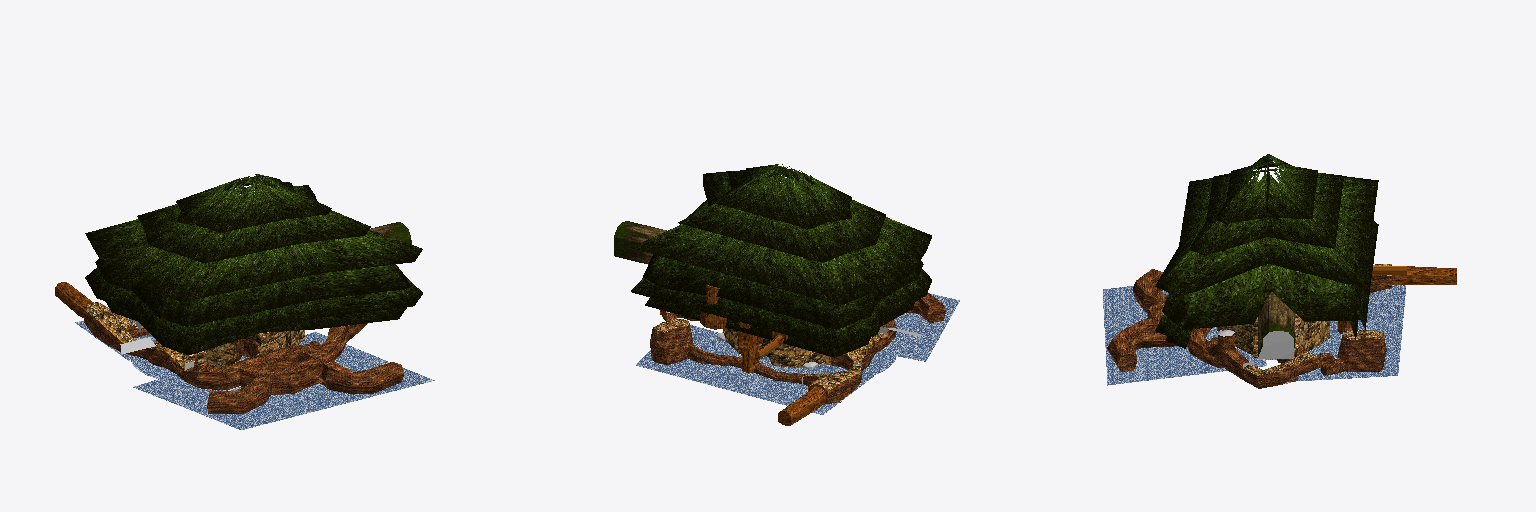
3 renders of one model, left to right at view 1: azimuth 30°, elevation 25°; view 2: azimuth 150°, elevation 25°; view 3: azimuth 270°, elevation 25°, orthographic.
Parts seen in each view (by area): view 1: #Room0#_Background#NoCollision.001_Forest_Tree03#NoCollision, #Room2#Camera1#IndoorEnv02#_Room2_tree#SFX_A#MirrorX#MirrorY, #Room2#Camera1#IndoorEnv02#_Water.001_Water3#NoCollision#Backfac, #Room0#_Room0_Dirt_Rock_Wall9#SFX_2#MirrorX#MirrorY, #Room6#Camera1#IndoorEnv02#_Room6_Dirt_Rock_Wall9#SFX_2#MirrorX#, #Room6#Camera1#IndoorEnv02#_Room6_tree#SFX_A#MirrorX#MirrorY, #Room6#Camera1#IndoorEnv02#_Room6_TreeInside#SFX_A, #Room0#_Room0_tree#SFX_A#MirrorX#MirrorY; view 2: #Room0#_Background#NoCollision.001_Forest_Tree03#NoCollision, #Room4#Camera1#_Water.002_Water3#NoCollision#BackfaceCulling#Alp, #Room2#Camera1#IndoorEnv02#_Water.001_Water3#NoCollision#Backfac, #Room5#IndoorEnv02#_Room5#Camera1_tree#SFX_A#MirrorX#MirrorY, #Room0#_Room0_Dirt_Rock_Wall9#SFX_2#MirrorX#MirrorY, #Room0#_Room0_Grass-Dirt., #Room6#Camera1#IndoorEnv02#_Room6_TreeInside#SFX_A, #Room2#Camera1#IndoorEnv02#_Room2_tree#SFX_A#MirrorX#MirrorY, #Room4#Camera1#_Room4#IndoorEnv03_tree#SFX_A#MirrorX#MirrorY, #Room4#Camera1#_Room4#IndoorEnv03_TreeInside#SFX_A, #Room6#Camera1#IndoorEnv02#_Room6_tree#SFX_A#MirrorX#MirrorY, #Room0#_Room0_tree#SFX_A#MirrorX#MirrorY (+2 smaller); view 3: #Room0#_Background#NoCollision.001_Forest_Tree03#NoCollision, #Room2#Camera1#IndoorEnv02#_Water.001_Water3#NoCollision#Backfac, #Room2#Camera1#IndoorEnv02#_Room2_tree#SFX_A#MirrorX#MirrorY, #Room4#Camera1#_Water.002_Water3#NoCollision#BackfaceCulling#Alp, #Room5#IndoorEnv02#_Room5#Camera1_tree#SFX_A#MirrorX#MirrorY, #Room0#_Room0_Dirt_Rock_Wall9#SFX_2#MirrorX#MirrorY, #Room0#_Room0_Grass-Dirt., #Room3#Camera1#_Room3#IndoorEnv02_tree#SFX_A#MirrorX#MirrorY, #Room6#Camera1#IndoorEnv02#_Room6_TreeInside#SFX_A, #Room0#_Room0_Black.#BackfaceCulling.
Boxes of the visible parts, x1,y1,x2,y2 form: #Room0#_Background#NoCollision.001_Forest_Tree03#NoCollision: [85, 174, 422, 354]; #Room2#Camera1#IndoorEnv02#_Room2_tree#SFX_A#MirrorX#MirrorY: [185, 324, 403, 413]; #Room2#Camera1#IndoorEnv02#_Water.001_Water3#NoCollision#Backfac: [133, 332, 434, 429]; #Room0#_Room0_Dirt_Rock_Wall9#SFX_2#MirrorX#MirrorY: [141, 325, 304, 370]; #Room6#Camera1#IndoorEnv02#_Room6_Dirt_Rock_Wall9#SFX_2#MirrorX#: [84, 302, 135, 342]; #Room6#Camera1#IndoorEnv02#_Room6_tree#SFX_A#MirrorX#MirrorY: [84, 310, 149, 356]; #Room6#Camera1#IndoorEnv02#_Room6_TreeInside#SFX_A: [55, 282, 93, 317]; #Room0#_Room0_tree#SFX_A#MirrorX#MirrorY: [139, 348, 197, 380]; #Room0#_Background#NoCollision.001_Forest_Tree03#NoCollision: [631, 164, 931, 357]; #Room4#Camera1#_Water.002_Water3#NoCollision#BackfaceCulling#Alp: [636, 325, 873, 414]; #Room2#Camera1#IndoorEnv02#_Water.001_Water3#NoCollision#Backfac: [877, 293, 959, 361]; #Room5#IndoorEnv02#_Room5#Camera1_tree#SFX_A#MirrorX#MirrorY: [650, 313, 720, 364]; #Room0#_Room0_Dirt_Rock_Wall9#SFX_2#MirrorX#MirrorY: [723, 328, 886, 368]; #Room0#_Room0_Grass-Dirt.: [614, 221, 666, 264]; #Room6#Camera1#IndoorEnv02#_Room6_TreeInside#SFX_A: [778, 384, 827, 425]; #Room2#Camera1#IndoorEnv02#_Room2_tree#SFX_A#MirrorX#MirrorY: [881, 293, 945, 344]; #Room4#Camera1#_Room4#IndoorEnv03_tree#SFX_A#MirrorX#MirrorY: [720, 337, 805, 383]; #Room4#Camera1#_Room4#IndoorEnv03_TreeInside#SFX_A: [737, 322, 762, 372]; #Room6#Camera1#IndoorEnv02#_Room6_tree#SFX_A#MirrorX#MirrorY: [803, 368, 861, 403]; #Room0#_Room0_tree#SFX_A#MirrorX#MirrorY: [768, 336, 887, 370]; #Room0#_Background#NoCollision.001_Forest_Tree03#NoCollision: [1155, 154, 1378, 348]; #Room2#Camera1#IndoorEnv02#_Water.001_Water3#NoCollision#Backfac: [1103, 286, 1266, 385]; #Room2#Camera1#IndoorEnv02#_Room2_tree#SFX_A#MirrorX#MirrorY: [1107, 269, 1248, 378]; #Room4#Camera1#_Water.002_Water3#NoCollision#BackfaceCulling#Alp: [1295, 285, 1405, 381]; #Room5#IndoorEnv02#_Room5#Camera1_tree#SFX_A#MirrorX#MirrorY: [1317, 333, 1386, 375]; #Room0#_Room0_Dirt_Rock_Wall9#SFX_2#MirrorX#MirrorY: [1222, 313, 1329, 357]; #Room0#_Room0_Grass-Dirt.: [1258, 292, 1294, 356]; #Room3#Camera1#_Room3#IndoorEnv02_tree#SFX_A#MirrorX#MirrorY: [1242, 345, 1319, 388]; #Room6#Camera1#IndoorEnv02#_Room6_TreeInside#SFX_A: [1392, 266, 1456, 284]; #Room0#_Room0_Black.#BackfaceCulling: [1258, 331, 1294, 358].
Size of the model in its own units: 4541 by 2573 by 4748.
Materials: 48 (31 with a texture image).